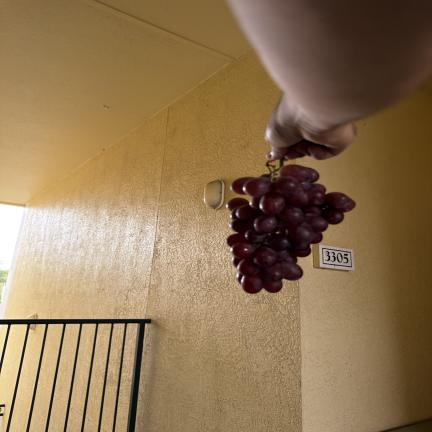grape_cluster: (226, 159, 355, 293)
